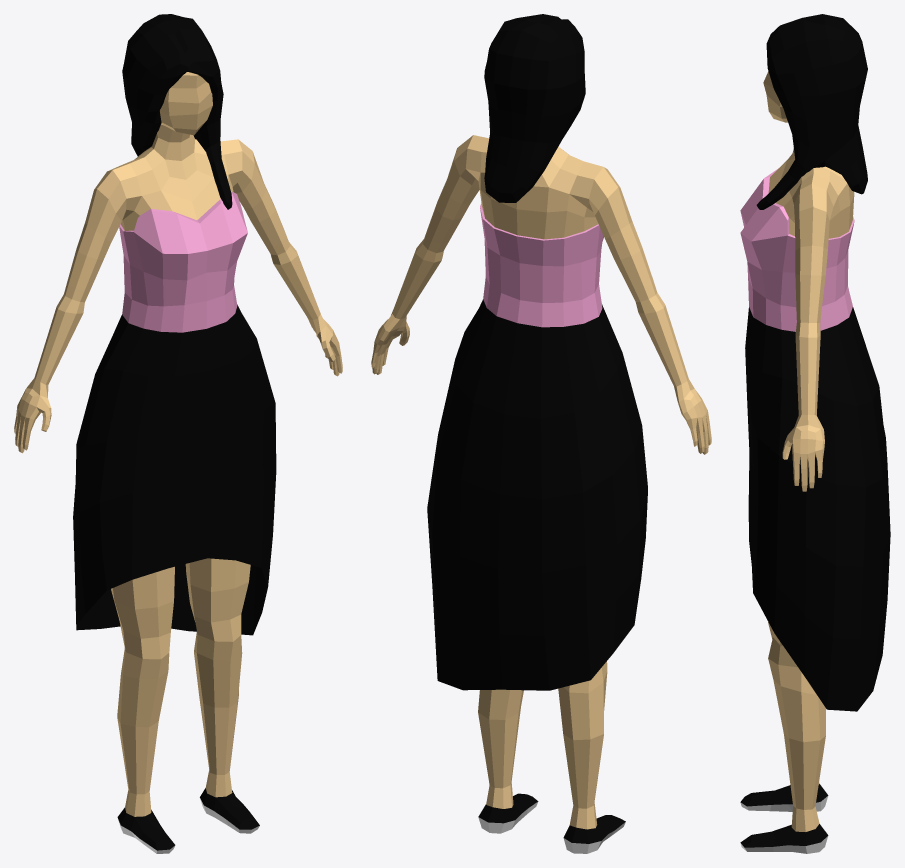
The model's file is Girl With Black & Pink Dress.obj.
3 views of the same model, side by side, from view 1: azimuth 30°, elevation 25°; view 2: azimuth 150°, elevation 25°; view 3: azimuth 270°, elevation 25° (orthographic). The views are drawn at different scales.
Parts seen in each view (by area): view 1: Girl_With_Black_&_Pink_Dress; view 2: Girl_With_Black_&_Pink_Dress; view 3: Girl_With_Black_&_Pink_Dress.
Part boxes in pixels (x1=…): Girl_With_Black_&_Pink_Dress: x1=14, y1=14, x2=342, y2=853; Girl_With_Black_&_Pink_Dress: x1=371, y1=14, x2=711, y2=853; Girl_With_Black_&_Pink_Dress: x1=740, y1=14, x2=890, y2=853.
Bounding box in the file's own units: 0.6842 × 1.62 × 0.2742.
Materials: 1 (1 with a texture image).
